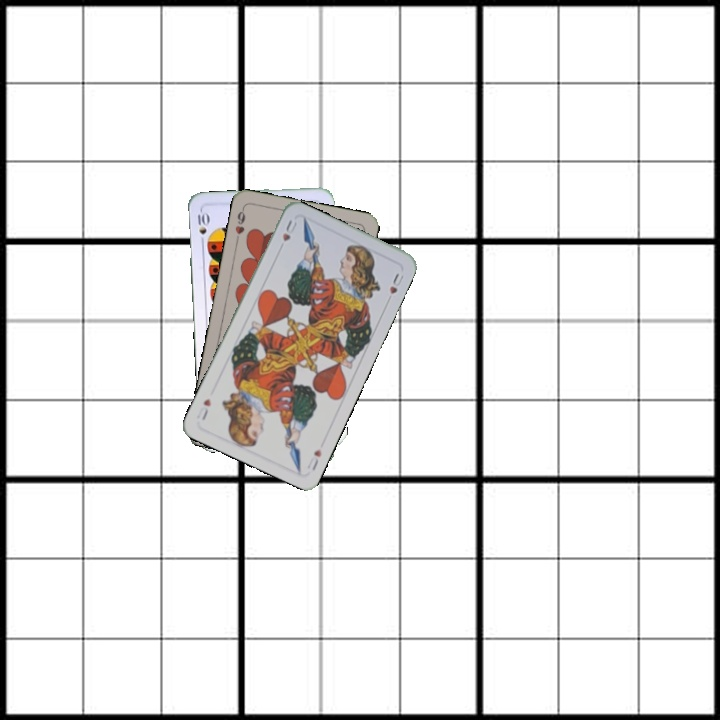H9: (231, 204, 248, 244)
HU: (278, 216, 299, 244), (303, 445, 324, 473)
S10: (194, 207, 210, 247)
